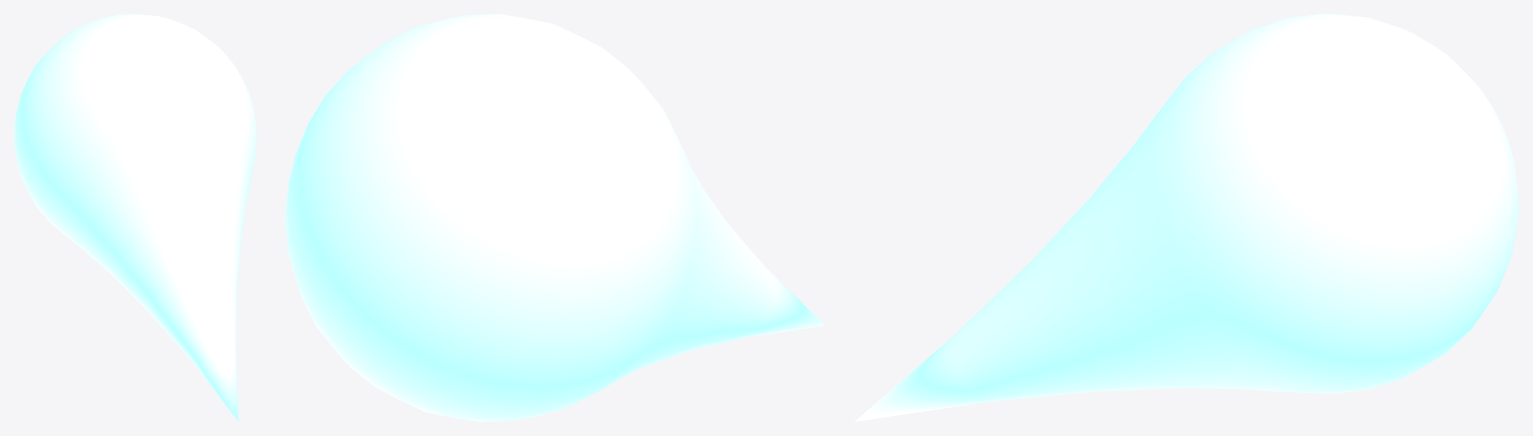
The model's file is Pointer.glb.
The picture shows the model from 3 angles, left to right: view 1: azimuth 30°, elevation 25°; view 2: azimuth 150°, elevation 25°; view 3: azimuth 270°, elevation 25°; orthographic projection. The views are drawn at different scales.
Parts seen in each view (by area): view 1: Sphere.003; view 2: Sphere.003; view 3: Sphere.003.
Boxes of the visible parts, left/top/right/bottom form: Sphere.003: left=14, top=14, right=256, bottom=421; Sphere.003: left=285, top=14, right=825, bottom=421; Sphere.003: left=854, top=14, right=1518, bottom=421.
Size of the model in its own units: 0.1088 by 0.1353 by 0.1906.
